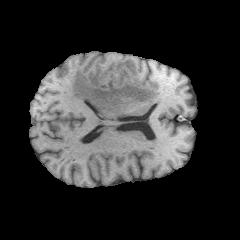glioma: (72, 59, 158, 115)
